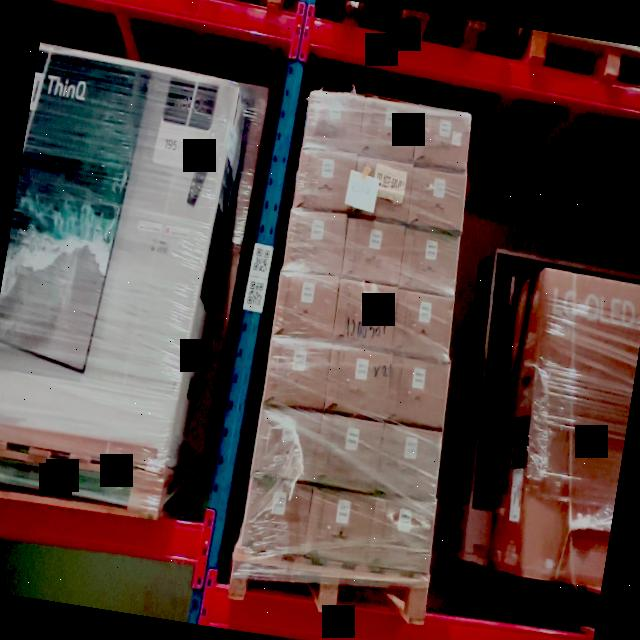box: (312, 416, 383, 492), (367, 495, 436, 573), (306, 490, 376, 562), (242, 480, 311, 553), (254, 406, 322, 479), (377, 426, 442, 499), (333, 278, 398, 348), (266, 338, 330, 408), (326, 347, 391, 415), (386, 356, 449, 426), (274, 273, 338, 340), (284, 208, 348, 274), (344, 218, 405, 283), (394, 291, 453, 358), (358, 99, 418, 162), (296, 149, 356, 211), (414, 107, 472, 169), (401, 231, 458, 293), (304, 94, 364, 152), (352, 160, 412, 218), (409, 168, 466, 228)
